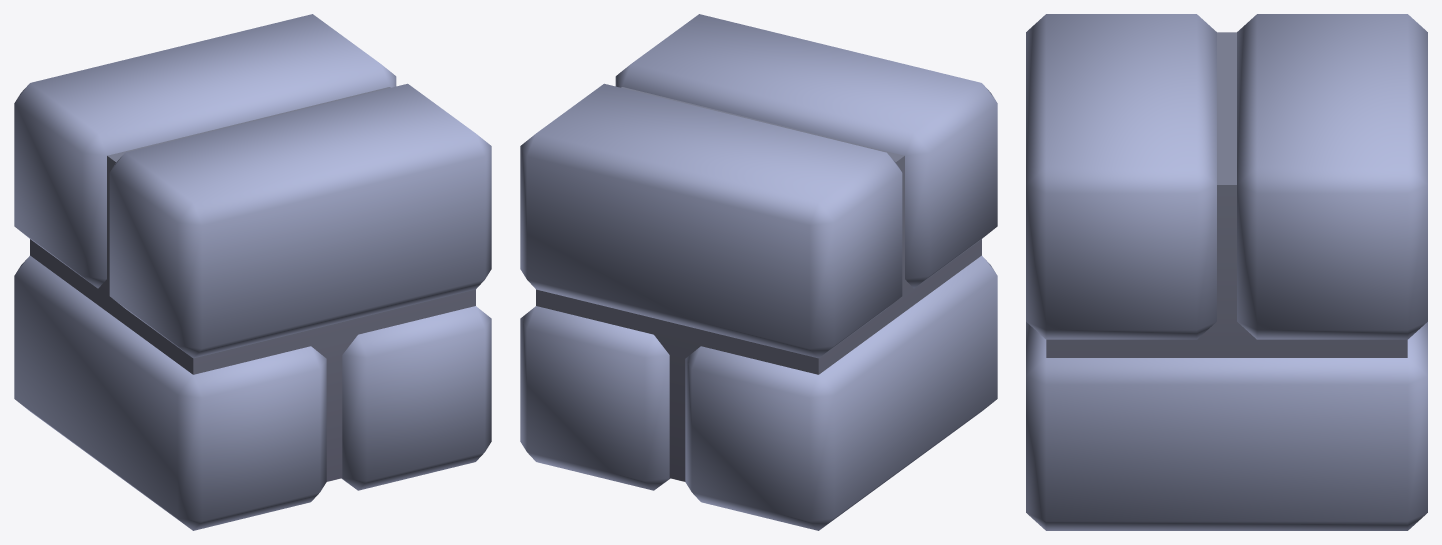
Rendered from brick.glb.
3 views of the same model, side by side, from view 1: azimuth 30°, elevation 25°; view 2: azimuth 150°, elevation 25°; view 3: azimuth 270°, elevation 25° (orthographic). The views are drawn at different scales.
Parts seen in each view (by area): view 1: brick; view 2: brick; view 3: brick.
Part boxes in pixels (<box>): brick: <box>14,14,491,530</box>; brick: <box>520,14,997,530</box>; brick: <box>1026,14,1427,530</box>.
Size of the model in its own units: 0.5 by 0.5 by 0.5.
